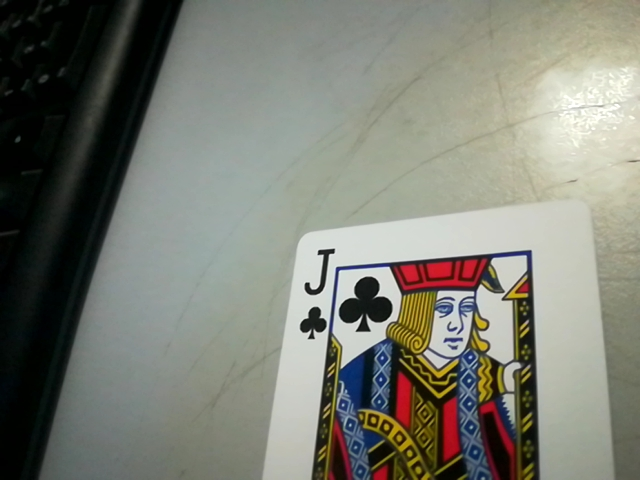mh j: (295, 240, 341, 342)
